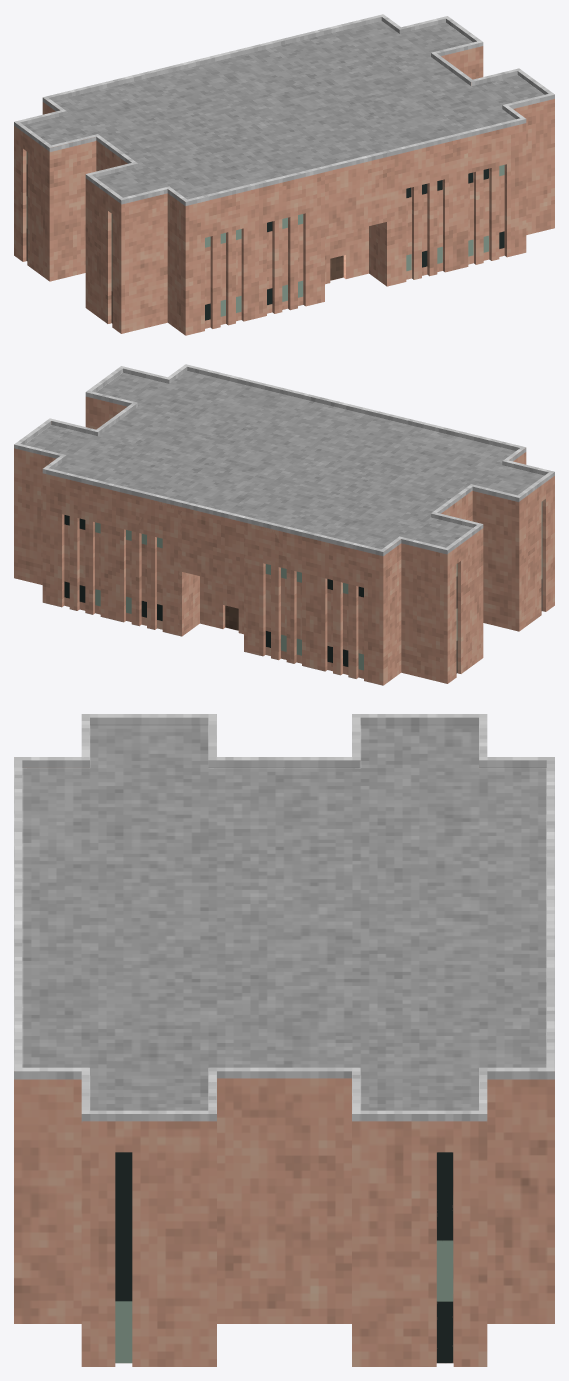
The model's file is library.fbx.
3 views of the same model, one above another, from view 1: azimuth 30°, elevation 25°; view 2: azimuth 150°, elevation 25°; view 3: azimuth 270°, elevation 25° (orthographic). The views are drawn at different scales.
Parts seen in each view (by area): view 1: Cube; view 2: Cube; view 3: Cube.
Boxes of the visible parts, <box> form: Cube: <box>14,14,554,335</box>; Cube: <box>14,364,554,685</box>; Cube: <box>14,714,554,1366</box>.
Size of the model in its own units: 700 by 206 by 400.
1 material, 1 textured.
